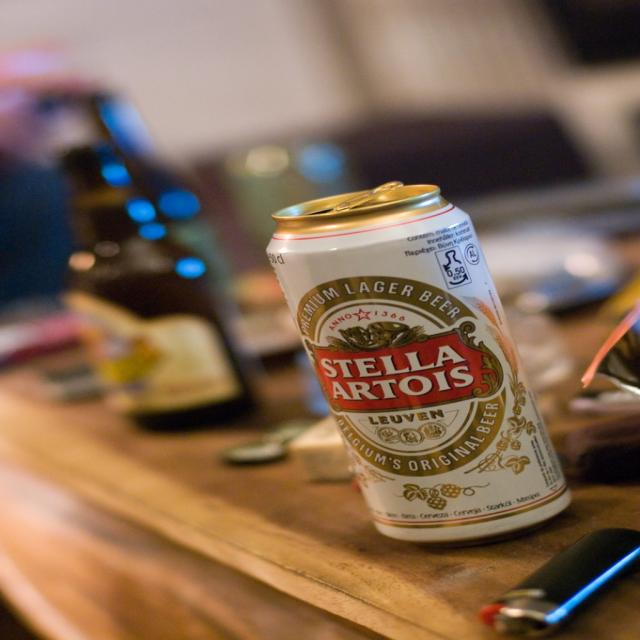stellaartois: (295, 277, 511, 479)
